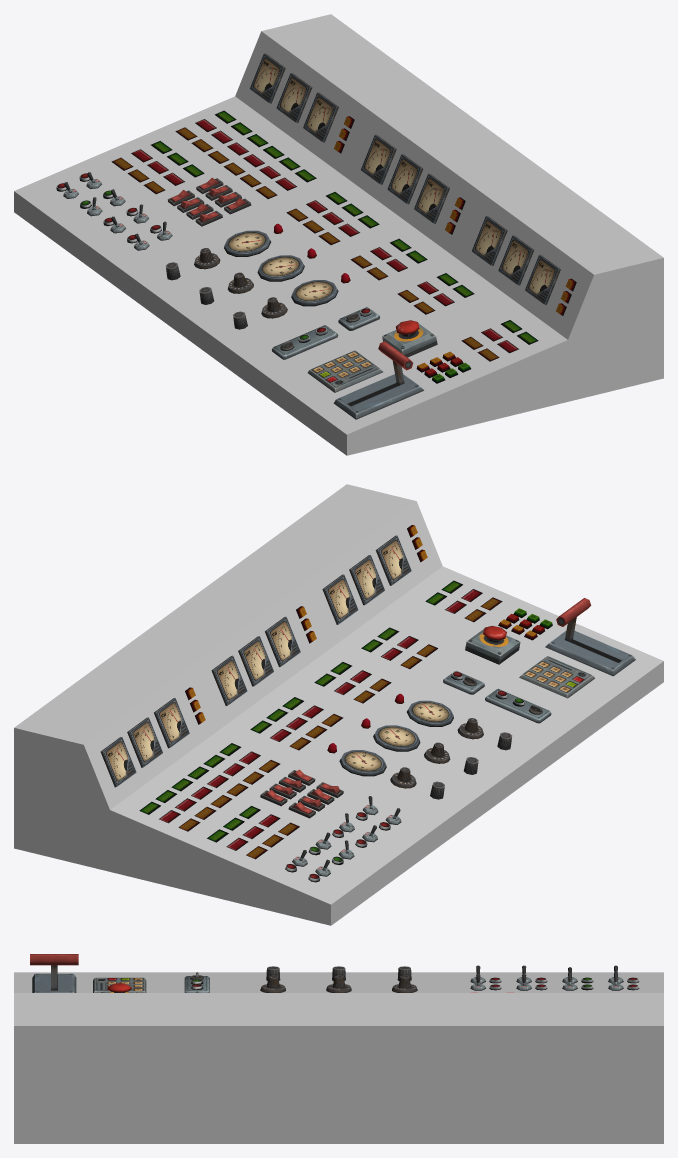
Rendered from ctrlPanel_middle03_A.FBX.
3 renders of one model, top to bottom at view 1: azimuth 30°, elevation 25°; view 2: azimuth 150°, elevation 25°; view 3: azimuth 270°, elevation 25°, orthographic. The views are drawn at different scales.
Parts seen in each view (by area): view 1: ctrlPanel_middle03_A, ctrlPanel_gauges, ctrlPanel_buttons; view 2: ctrlPanel_middle03_A, ctrlPanel_gauges, ctrlPanel_buttons; view 3: ctrlPanel_middle03_A, ctrlPanel_buttons.
Boxes of the visible parts, x1=… form: ctrlPanel_middle03_A: x1=14, y1=14, x2=663, y2=455; ctrlPanel_gauges: x1=224, y1=53, x2=560, y2=306; ctrlPanel_buttons: x1=56, y1=110, x2=576, y2=383; ctrlPanel_middle03_A: x1=14, y1=484, x2=663, y2=925; ctrlPanel_gauges: x1=100, y1=535, x2=453, y2=787; ctrlPanel_buttons: x1=139, y1=525, x2=552, y2=882; ctrlPanel_middle03_A: x1=14, y1=954, x2=663, y2=1143; ctrlPanel_buttons: x1=191, y1=977, x2=639, y2=990.
Size of the model in its own units: 110 by 40 by 200.
